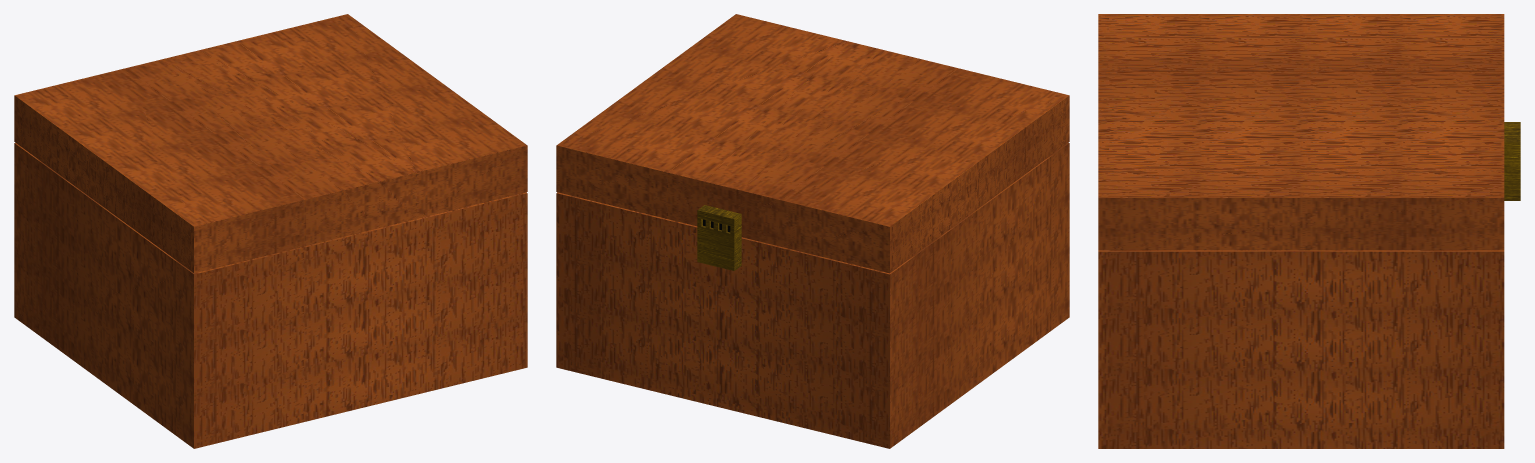
The picture shows the model from 3 angles, left to right: view 1: azimuth 30°, elevation 25°; view 2: azimuth 150°, elevation 25°; view 3: azimuth 270°, elevation 25°; orthographic projection. The views are drawn at different scales.
Visible parts, largest first — view 1: Box; view 2: Box; view 3: Box.
Part boxes in pixels (x1,y1,x2,y2): Box: (14,14,527,448); Box: (556,14,1069,448); Box: (1098,14,1520,448).
Bounding box in the file's own units: 1.5 × 0.9551 × 1.46.
